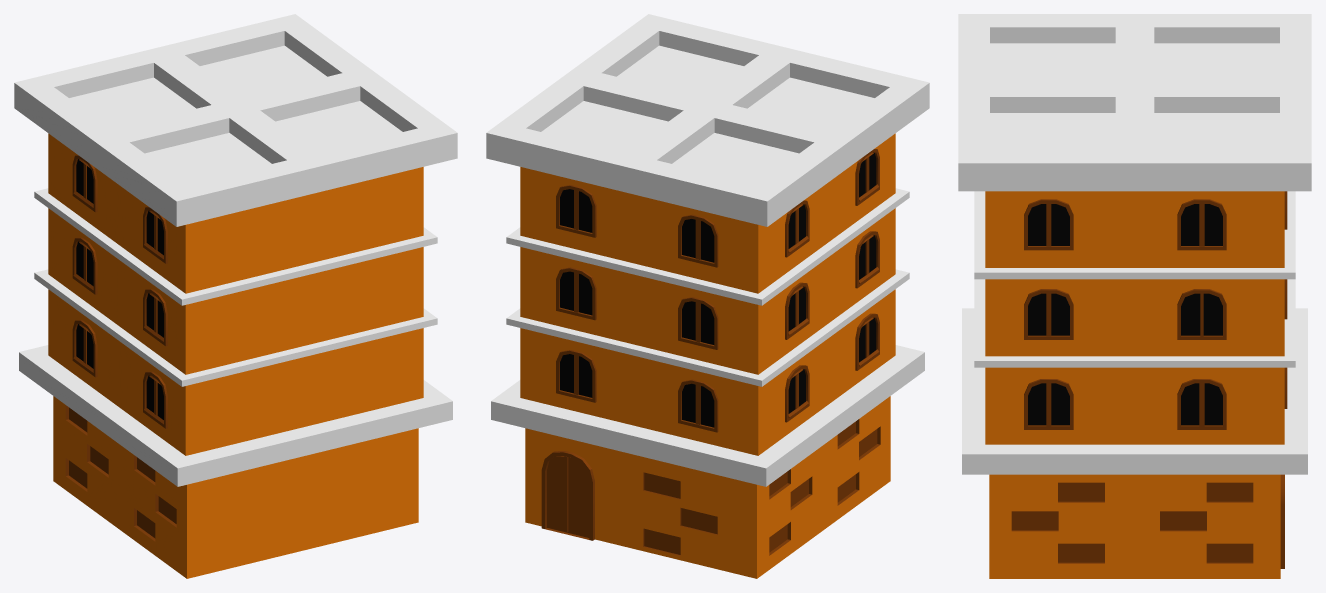
The model's file is houseterrerouded.fbx.
3 views of the same model, side by side, from view 1: azimuth 30°, elevation 25°; view 2: azimuth 150°, elevation 25°; view 3: azimuth 270°, elevation 25° (orthographic). The views are drawn at different scales.
Visible parts, largest first — view 1: houseterrerouded; view 2: houseterrerouded; view 3: houseterrerouded.
Boxes of the visible parts, x1,y1,x2,y2 form: houseterrerouded: (14, 14, 457, 578); houseterrerouded: (486, 14, 929, 578); houseterrerouded: (958, 14, 1311, 578).
Size of the model in its own units: 2080 by 2784 by 2080.
